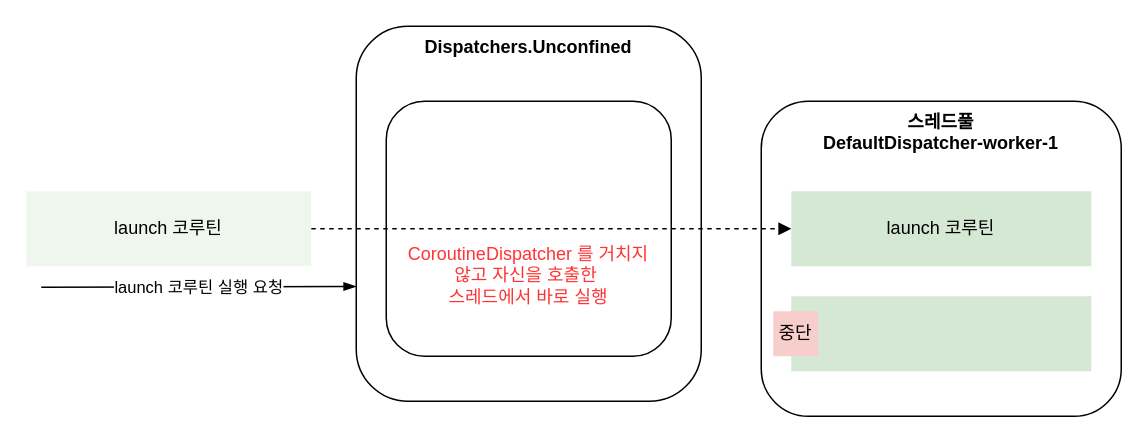
This 1148x443 diagram has some shape labels left out. The box of each missing label's shape, as (x1, y1, x2, y2) in pixels:
runBlocking 코루틴: (790, 296, 1090, 370)
작업 대기열: (385, 100, 671, 356)
